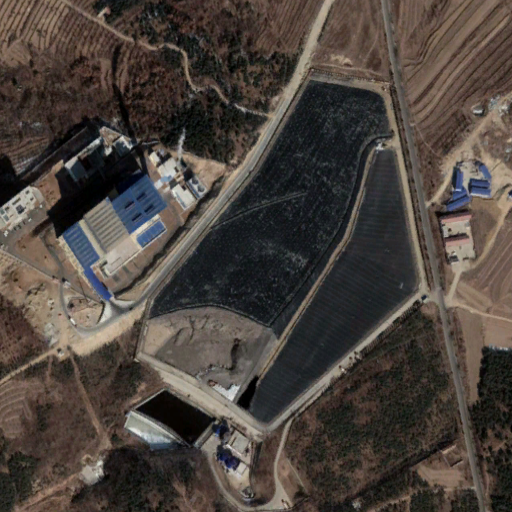lf: (134, 75, 430, 433)
